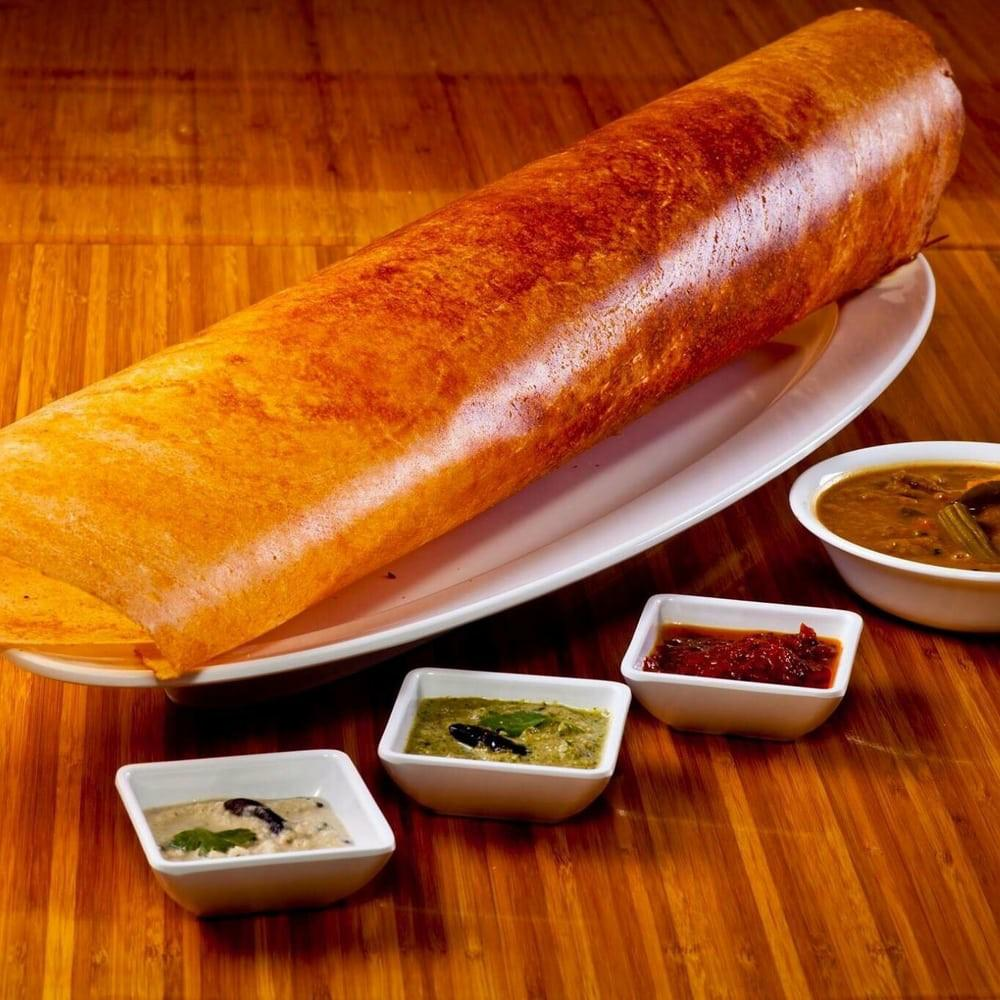CoconutChutney: (144, 797, 354, 862)
Dosa: (0, 8, 963, 682)
GreenChutney: (408, 694, 603, 772)
